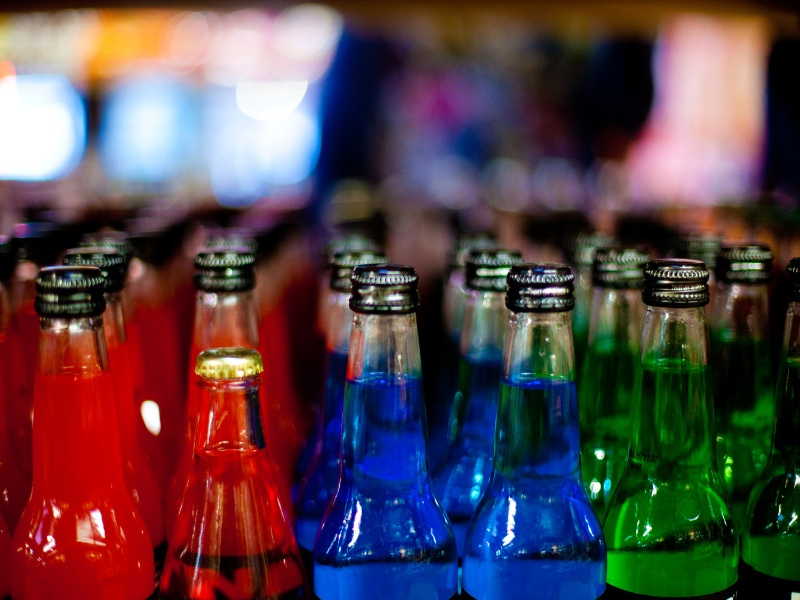Glass bottle: (571, 258, 763, 597), (447, 248, 614, 600), (301, 256, 444, 595), (17, 237, 157, 561), (137, 338, 297, 553), (163, 233, 274, 367)
